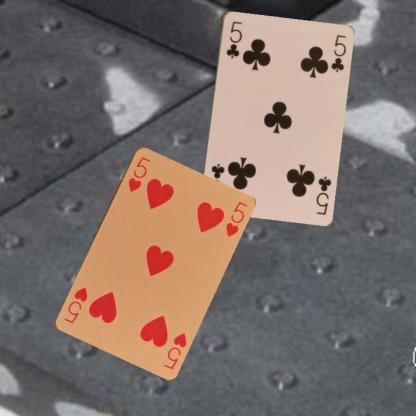5c: (313, 173, 332, 216), (224, 18, 243, 60)
5h: (160, 330, 188, 370), (126, 154, 152, 193)
